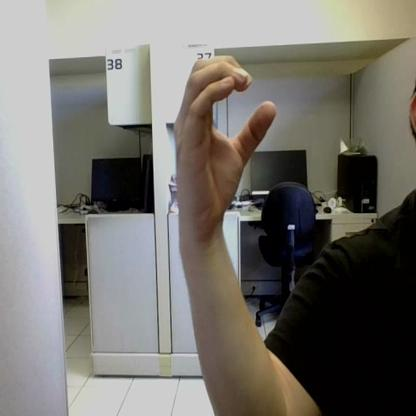C: (175, 56, 276, 217)
